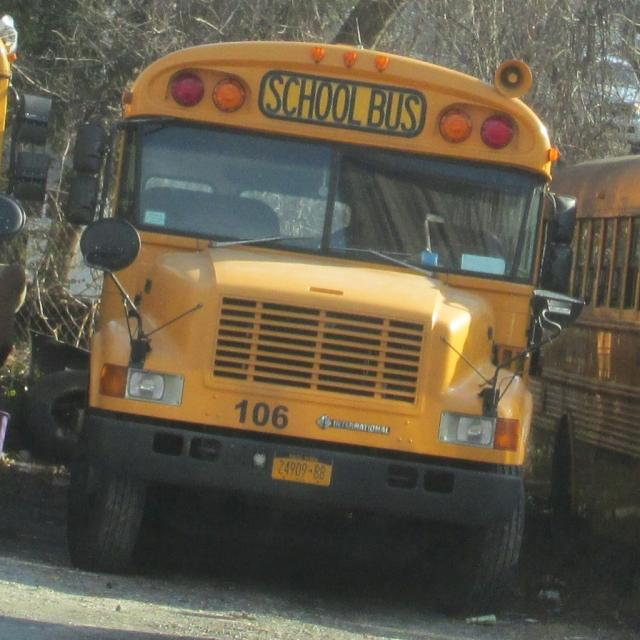Buses: (79, 42, 559, 619)
